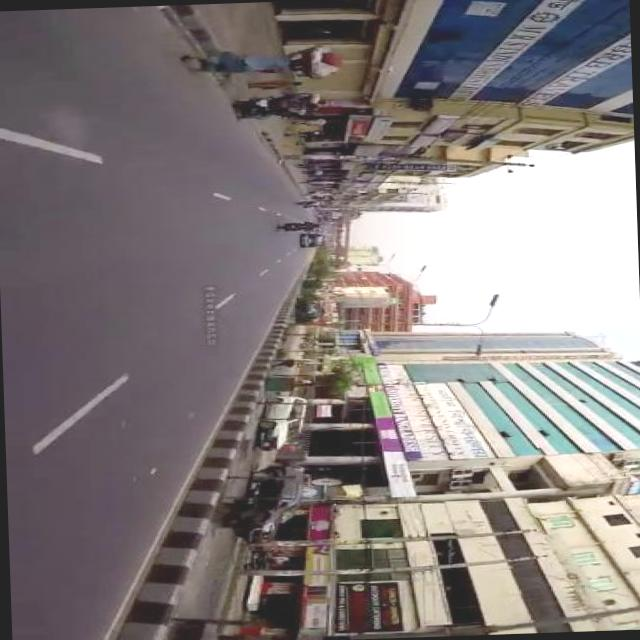car: (244, 462, 309, 542), (263, 392, 311, 450)
motorcycle: (234, 93, 289, 118), (280, 220, 312, 232)
truck: (307, 230, 329, 246)
